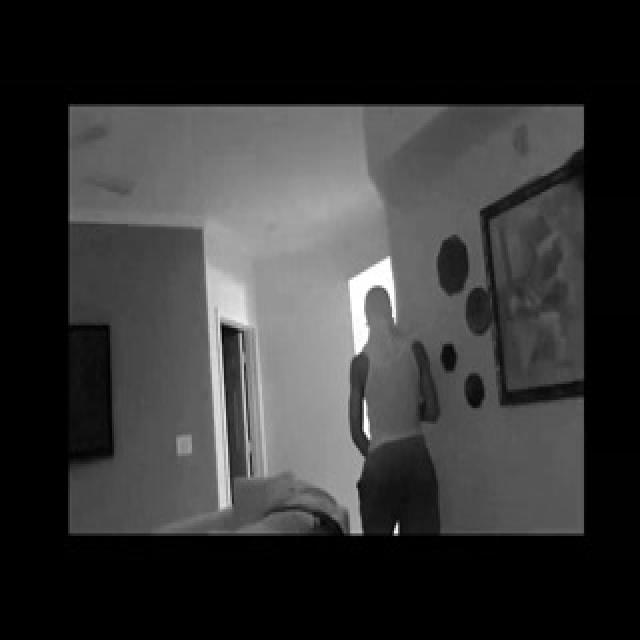thief: (343, 282, 431, 420)
